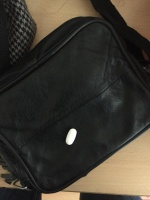Centik Buskopan: (65, 127, 77, 146)
